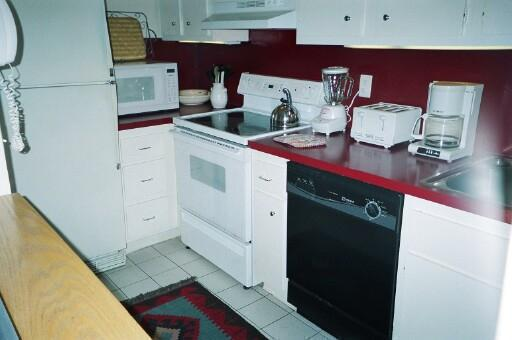Electrodomestico: (6, 6, 119, 257), (288, 164, 393, 336), (177, 131, 249, 276)
Lavaplatos: (425, 150, 511, 201)
